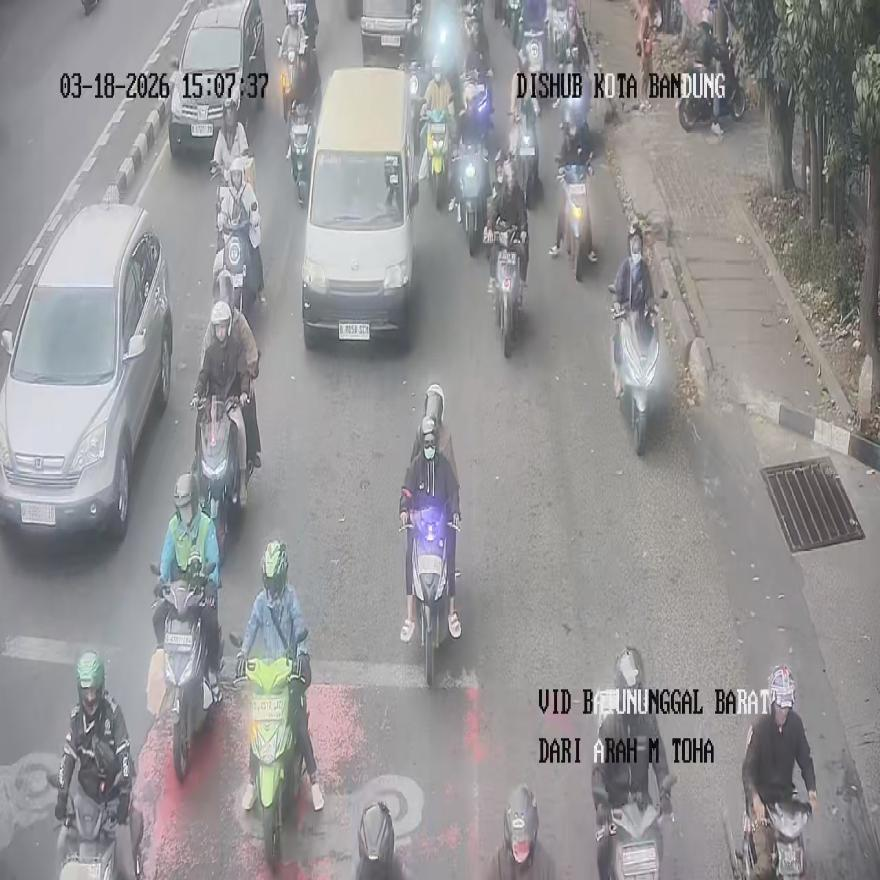Mobil: (0, 200, 173, 538), (300, 67, 418, 347), (169, 0, 268, 154)
Motor: (591, 647, 674, 878), (150, 560, 222, 781), (237, 642, 307, 869), (47, 772, 140, 880), (609, 285, 664, 453), (407, 501, 454, 686), (195, 394, 244, 564), (213, 161, 262, 319), (739, 788, 811, 880), (485, 784, 555, 878), (679, 45, 748, 130), (599, 792, 662, 879), (558, 154, 596, 280), (489, 225, 524, 357), (276, 29, 319, 127), (456, 140, 488, 256), (508, 99, 540, 208), (355, 799, 396, 880), (287, 102, 315, 206), (423, 109, 452, 209), (504, 0, 522, 46), (80, 0, 99, 16)
